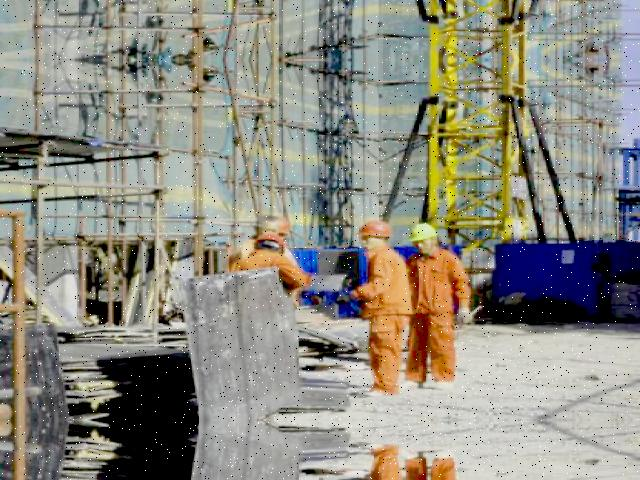Helmet: (358, 218, 399, 244), (410, 219, 446, 246), (253, 232, 289, 253)
